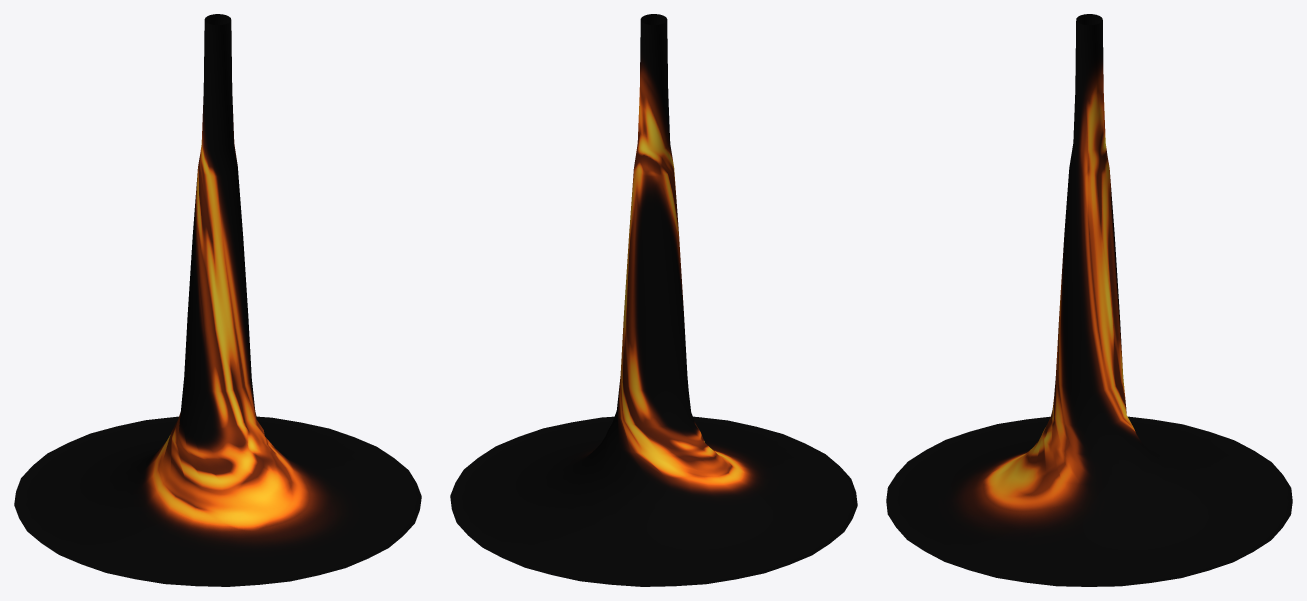
File: Sworl.fbx
The picture shows the model from 3 angles, left to right: view 1: azimuth 30°, elevation 25°; view 2: azimuth 150°, elevation 25°; view 3: azimuth 270°, elevation 25°; orthographic projection.
Parts seen in each view (by area): view 1: Sworl; view 2: Sworl; view 3: Sworl.
Part boxes in pixels (<box>): Sworl: <box>14,14,421,586</box>; Sworl: <box>450,14,857,586</box>; Sworl: <box>886,14,1292,586</box>.
Size of the model in its own units: 306 by 399 by 306.
